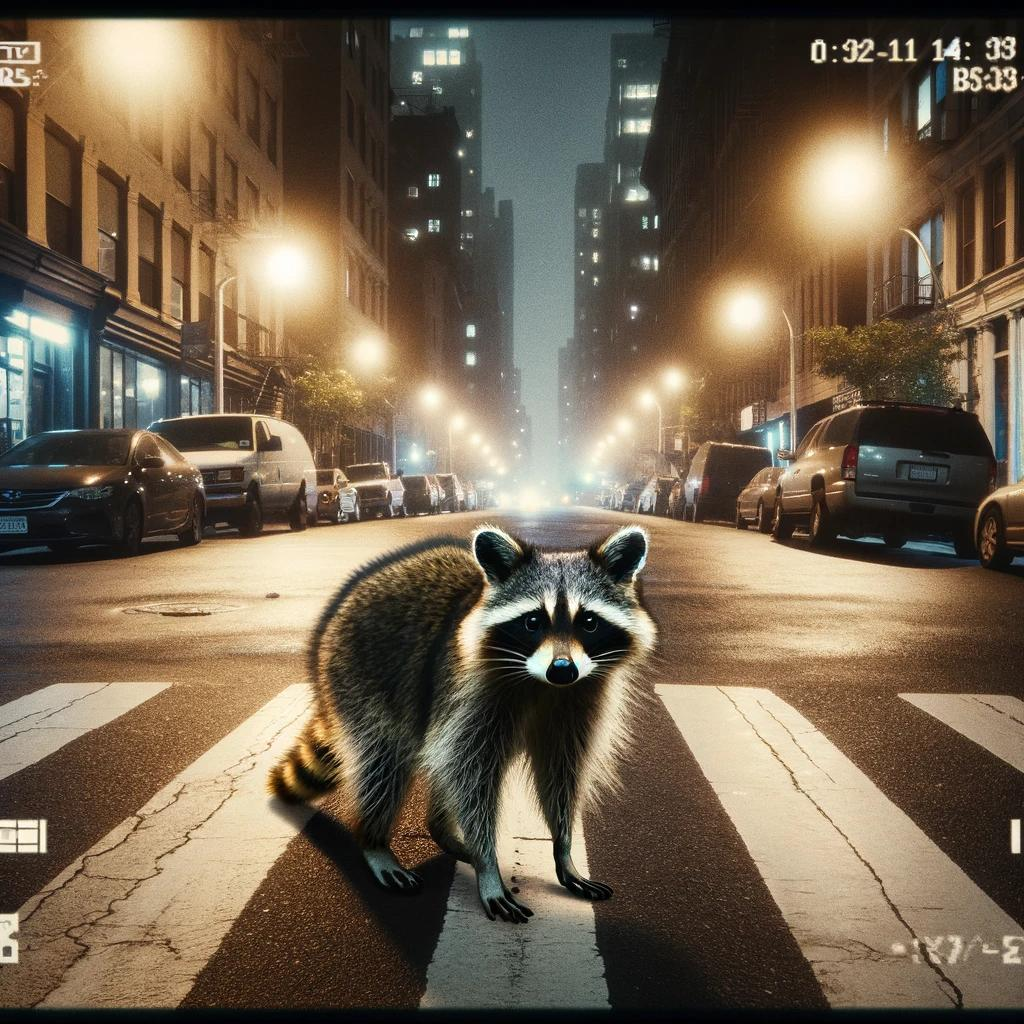raccoon: (255, 510, 683, 937)
